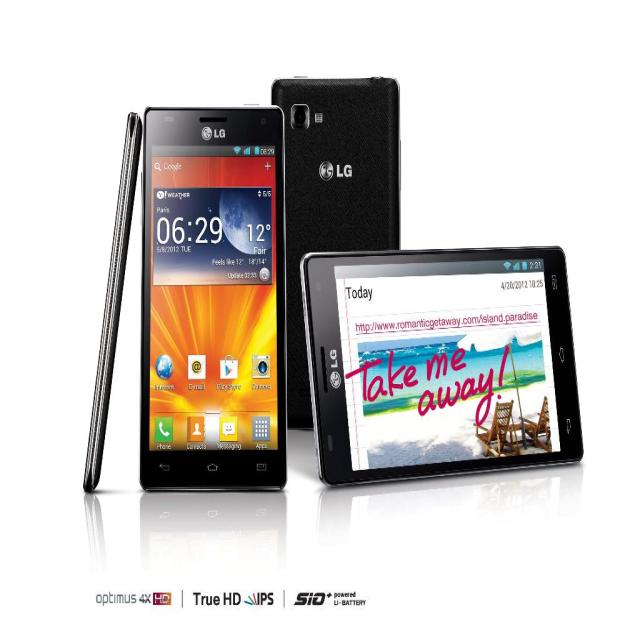Mobile-phone: (299, 244, 586, 487), (140, 104, 288, 492), (269, 71, 402, 430), (81, 109, 144, 497)
